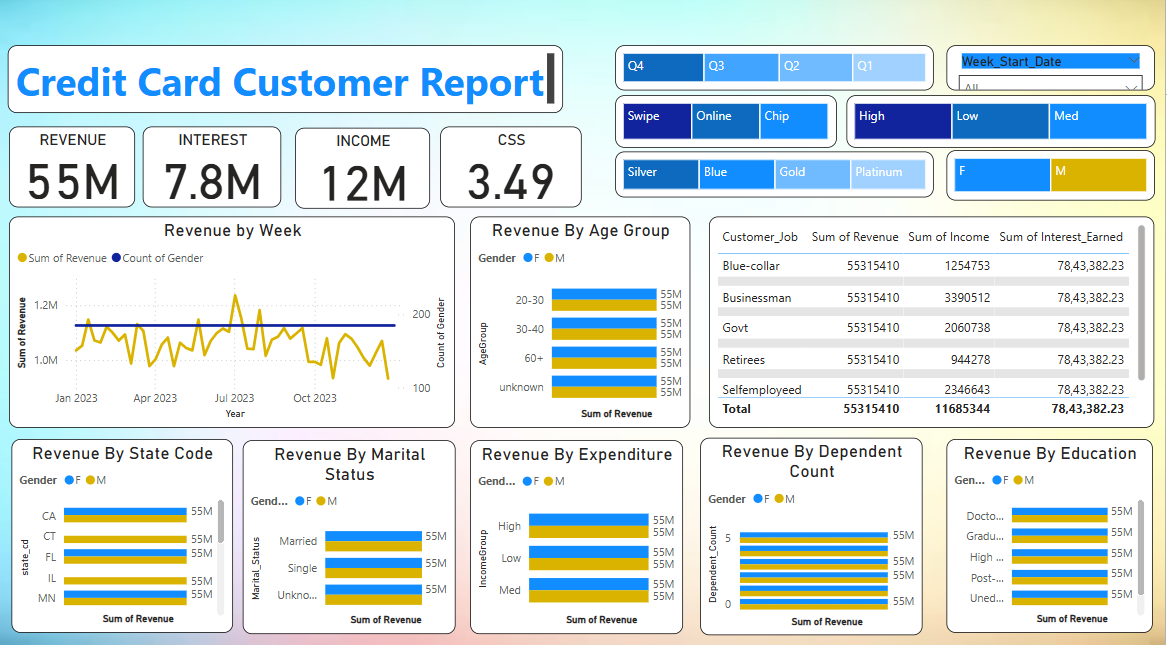

This screenshot's page, from the dashboard's own definition file:
{"tool":"powerbi","page":{"name":"Cc Customer","canvas":[1280,720],"ordinal":2},"visuals":[{"type":"textbox","box":[9.6,56.3,609.3,74.1],"z":0},{"type":"card","title":"REVENUE","fields":{"Values":["Sum(credit_card.Revenue)"]},"box":[11,145.5,138.6,89.2],"z":1000},{"type":"card","title":"INTEREST","fields":{"Values":["Sum(credit_card.Interest_Earned)"]},"box":[157.8,145.5,152.3,89.2],"z":2000},{"type":"card","title":"INCOME","fields":{"Values":["Sum(cust_detail.Income)"]},"box":[325.2,146.8,148.2,89.2],"z":3000},{"type":"card","title":"CSS","fields":{"Values":["Avg(cust_detail.Cust_Satisfaction_Score)"]},"box":[484.4,145.5,155.1,89.2],"z":4000},{"type":"slicer","fields":{"Values":["credit_card.Week_Start_Date"]},"box":[1040.1,56.3,229.2,49.4],"z":5000},{"type":"treemap","fields":{"Group":["credit_card.Qtr"],"Values":["Sum(credit_card.Client_Num)"]},"box":[676.5,56.3,349.9,49.4],"z":6000},{"type":"treemap","fields":{"Values":["Avg(credit_card.Client_Num)"],"Group":["credit_card.Use Chip"]},"box":[676.5,111.1,242.9,57.6],"z":7000},{"type":"treemap","fields":{"Values":["Avg(credit_card.Client_Num)"],"Group":["credit_card.Card_Category"]},"box":[676.5,172.9,349.9,50.8],"z":8000},{"type":"treemap","fields":{"Group":["cust_detail.IncomeGroup"],"Values":["Avg(credit_card.Client_Num)"]},"box":[930.4,111.1,338.9,57.6],"z":9000},{"type":"tableEx","fields":{"Values":["cust_detail.Customer_Job","Sum(credit_card.Revenue)","Sum(cust_detail.Income)","Sum(credit_card.Interest_Earned)"]},"box":[779.4,244.3,488.5,231.9],"z":10000},{"type":"lineChart","title":" Revenue by Week","fields":{"Y":["Sum(credit_card.Revenue)"],"Y2":["CountNonNull(cust_detail.Gender)"],"Category":["credit_card.Week_Start_Date.Variation.Date Hierarchy.Year","credit_card.Week_Start_Date.Variation.Date Hierarchy.Month","credit_card.Week_Start_Date.Variation.Date Hierarchy.Day"]},"box":[11,244.3,489.9,231.9],"z":11000},{"type":"treemap","fields":{"Values":["Sum(credit_card.Revenue)"],"Group":["cust_detail.Gender"]},"box":[1040.1,171.5,229.2,54.9],"z":12000},{"type":"clusteredBarChart","title":"Revenue By Expenditure","fields":{"Y":["Sum(credit_card.Revenue)"],"Category":["cust_detail.IncomeGroup"],"Series":["cust_detail.Gender"]},"box":[517.3,489.9,233.3,212.7],"z":13000},{"type":"clusteredBarChart","title":"Revenue By Age Group","fields":{"Y":["Sum(credit_card.Revenue)"],"Category":["cust_detail.AgeGroup"],"Series":["cust_detail.Gender"]},"box":[517.3,244.3,241.5,231.9],"z":14000},{"type":"clusteredBarChart","title":"Revenue By Dependent Count","fields":{"Y":["Sum(credit_card.Revenue)"],"Category":["cust_detail.Dependent_Count"],"Series":["cust_detail.Gender"]},"box":[769.8,487.1,244.3,216.8],"z":15000},{"type":"clusteredBarChart","title":"Revenue By Education","fields":{"Y":["Sum(credit_card.Revenue)"],"Category":["cust_detail.Education_Level"],"Series":["cust_detail.Gender"]},"box":[1040.1,488.5,226.4,212.7],"z":16000},{"type":"clusteredBarChart","title":"Revenue By State Code","fields":{"Y":["Sum(credit_card.Revenue)"],"Category":["cust_detail.state_cd"],"Series":["cust_detail.Gender"]},"box":[13.7,488.5,242.9,212.7],"z":17000},{"type":"clusteredBarChart","title":"Revenue By Marital Status","fields":{"Y":["Sum(credit_card.Revenue)"],"Category":["cust_detail.Marital_Status"],"Series":["cust_detail.Gender"]},"box":[267.6,489.9,233.3,212.7],"z":18000}]}

Visuals, with their boxes in screenshot pixels (x1, y1, x2, y2), scaled from the page's 1280x720 canvas onto the 1167x645 screenshot:
textbox: select_region(9, 50, 564, 117)
"REVENUE" card: select_region(10, 130, 136, 210)
"INTEREST" card: select_region(144, 130, 283, 210)
"INCOME" card: select_region(296, 132, 432, 211)
"CSS" card: select_region(442, 130, 583, 210)
slicer - credit_card.Week_Start_Date: select_region(948, 50, 1157, 95)
treemap - credit_card.Qtr x Sum(credit_card.Client_Num): select_region(617, 50, 936, 95)
treemap - Avg(credit_card.Client_Num) x credit_card.Use Chip: select_region(617, 100, 838, 151)
treemap - Avg(credit_card.Client_Num) x credit_card.Card_Category: select_region(617, 155, 936, 200)
treemap - cust_detail.IncomeGroup x Avg(credit_card.Client_Num): select_region(848, 100, 1157, 151)
tableEx - cust_detail.Customer_Job x Sum(credit_card.Revenue): select_region(711, 219, 1156, 427)
" Revenue by Week" lineChart: select_region(10, 219, 457, 427)
treemap - Sum(credit_card.Revenue) x cust_detail.Gender: select_region(948, 154, 1157, 203)
"Revenue By Expenditure" clusteredBarChart: select_region(472, 439, 684, 629)
"Revenue By Age Group" clusteredBarChart: select_region(472, 219, 692, 427)
"Revenue By Dependent Count" clusteredBarChart: select_region(702, 436, 925, 631)
"Revenue By Education" clusteredBarChart: select_region(948, 438, 1155, 628)
"Revenue By State Code" clusteredBarChart: select_region(12, 438, 234, 628)
"Revenue By Marital Status" clusteredBarChart: select_region(244, 439, 457, 629)
